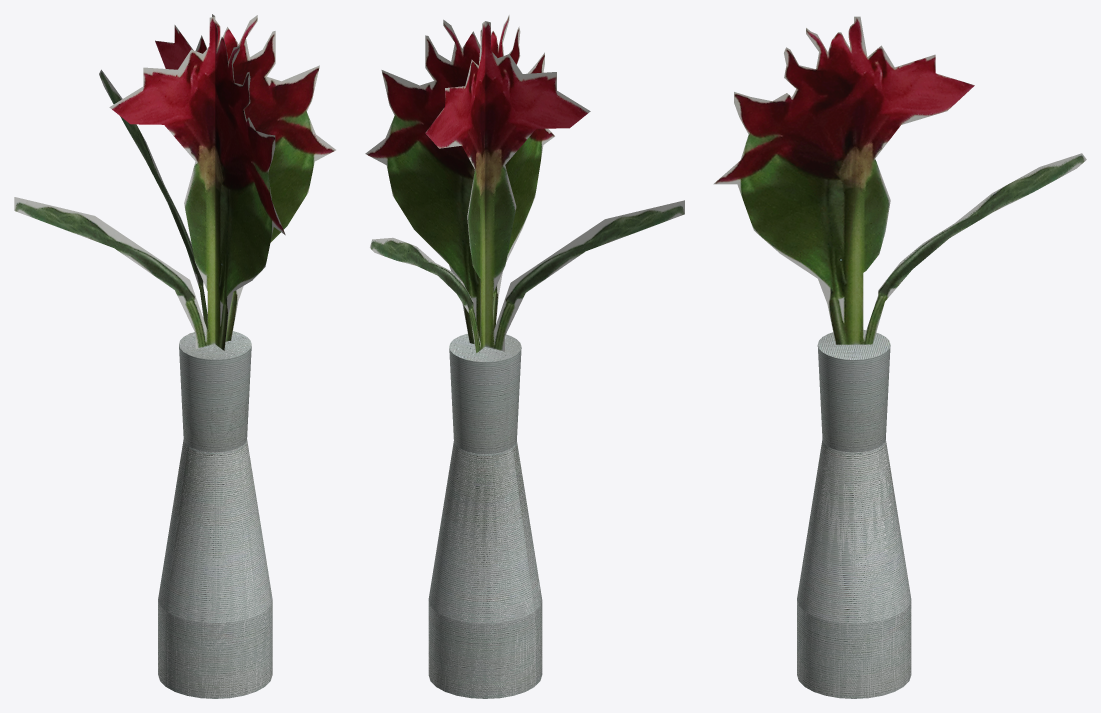
Rendered from white_vase_with_red_plant.dae.
3 renders of one model, left to right at view 1: azimuth 30°, elevation 25°; view 2: azimuth 150°, elevation 25°; view 3: azimuth 270°, elevation 25°, orthographic.
Visible parts, largest first — view 1: SketchUp (×3); view 2: SketchUp (×3); view 3: SketchUp (×3).
Part boxes in pixels (x1=…): SketchUp (×3): x1=14, y1=14, x2=335, y2=698; SketchUp (×3): x1=365, y1=15, x2=684, y2=698; SketchUp (×3): x1=713, y1=16, x2=1086, y2=698.
Bounding box in the file's own units: 0.2143 × 0.2155 × 0.4186.
Materials: 3 (2 with a texture image).
